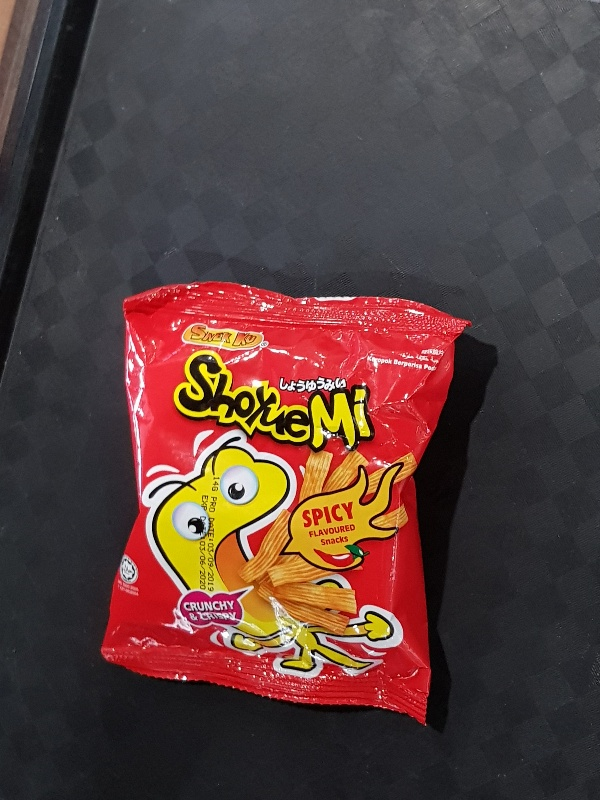ShoyueMi Spicy Flavoured Snacks: (100, 276, 474, 727)
